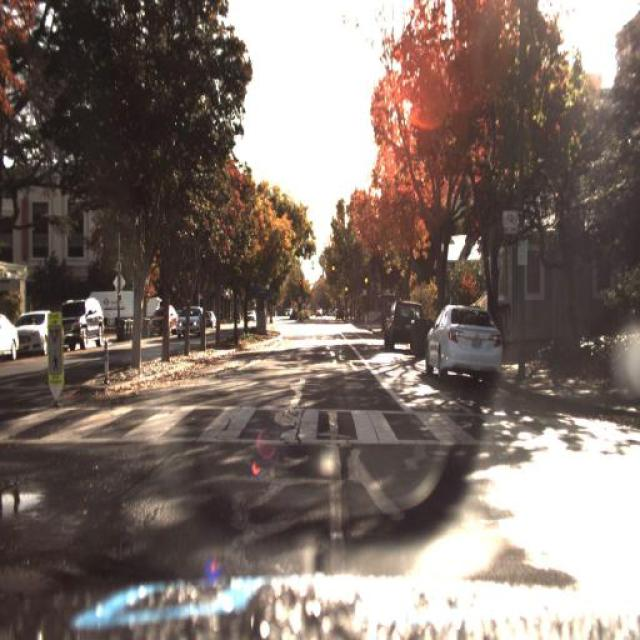car: (430, 302, 506, 378), (382, 294, 427, 356), (64, 297, 101, 353), (16, 310, 58, 358), (0, 314, 22, 370), (144, 303, 178, 336), (176, 308, 200, 337), (205, 306, 217, 332), (246, 304, 260, 324)
trafficLight-Green: (326, 250, 336, 274)
trafficLight-RedLeft: (362, 267, 372, 294), (342, 278, 351, 302)
trafficLight-Yellow: (295, 274, 307, 300)
trafficLight-YellowLeft: (360, 266, 370, 285), (340, 281, 350, 293)
